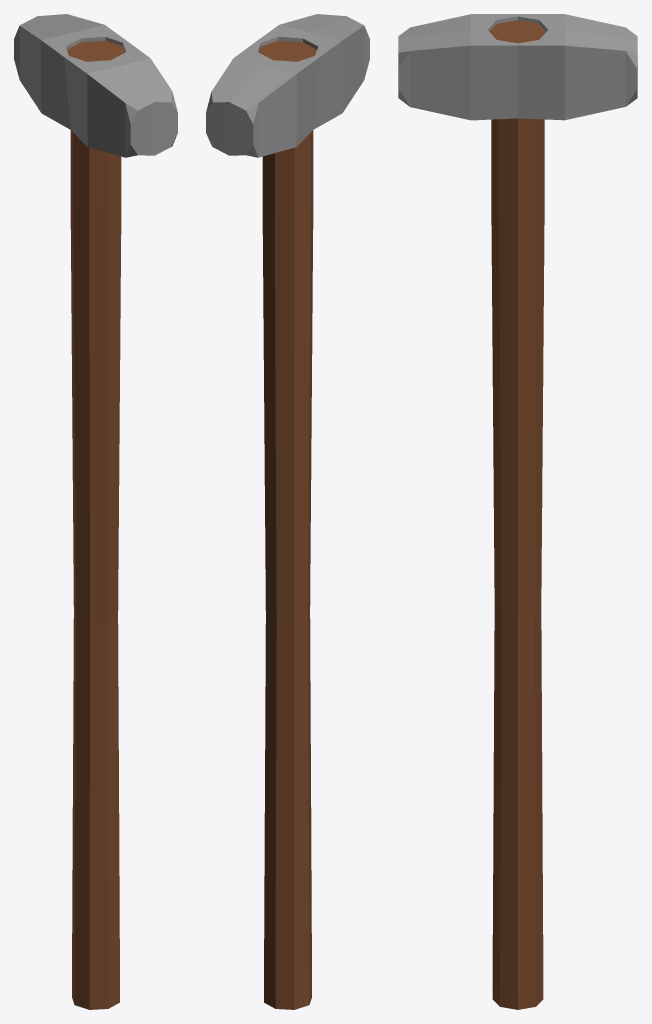
File: hammer02.obj
3 views of the same model, side by side, from view 1: azimuth 30°, elevation 25°; view 2: azimuth 150°, elevation 25°; view 3: azimuth 270°, elevation 25° (orthographic).
Visible parts, largest first — view 1: Cylinder; view 2: Cylinder; view 3: Cylinder.
Part boxes in pixels (left/top/right/bottom): Cylinder: left=14, top=14, right=177, bottom=1009; Cylinder: left=206, top=14, right=369, bottom=1009; Cylinder: left=398, top=14, right=637, bottom=1009.
Size of the model in its own units: 0.0575 by 0.8183 by 0.1831.
1 material, 1 textured.
